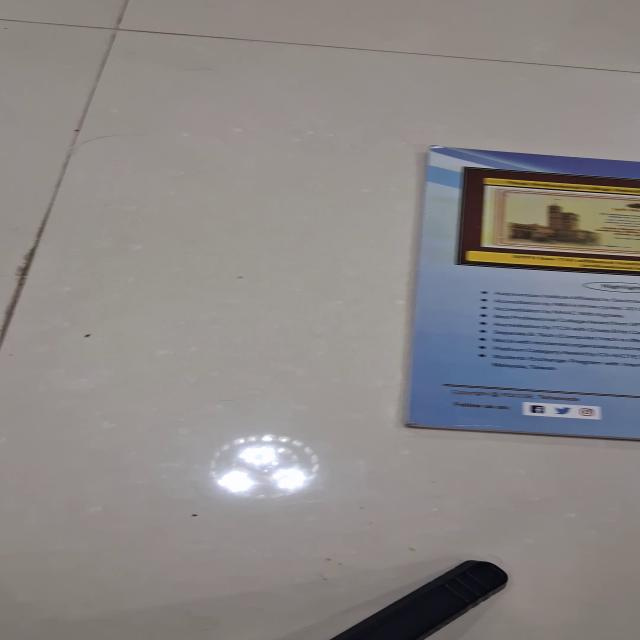paper: (403, 145, 639, 440)
